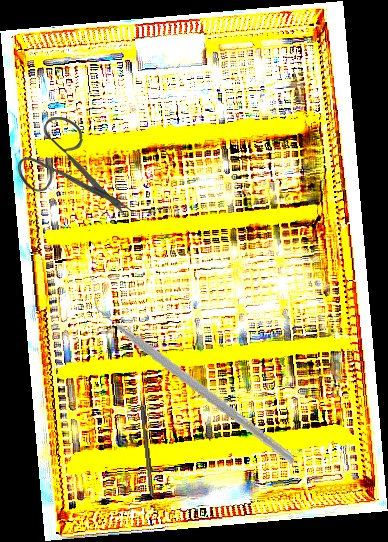Chopper: (79, 285, 310, 464)
Hook Surgical: (138, 390, 155, 497)
Iris Scissors: (17, 116, 133, 219)
